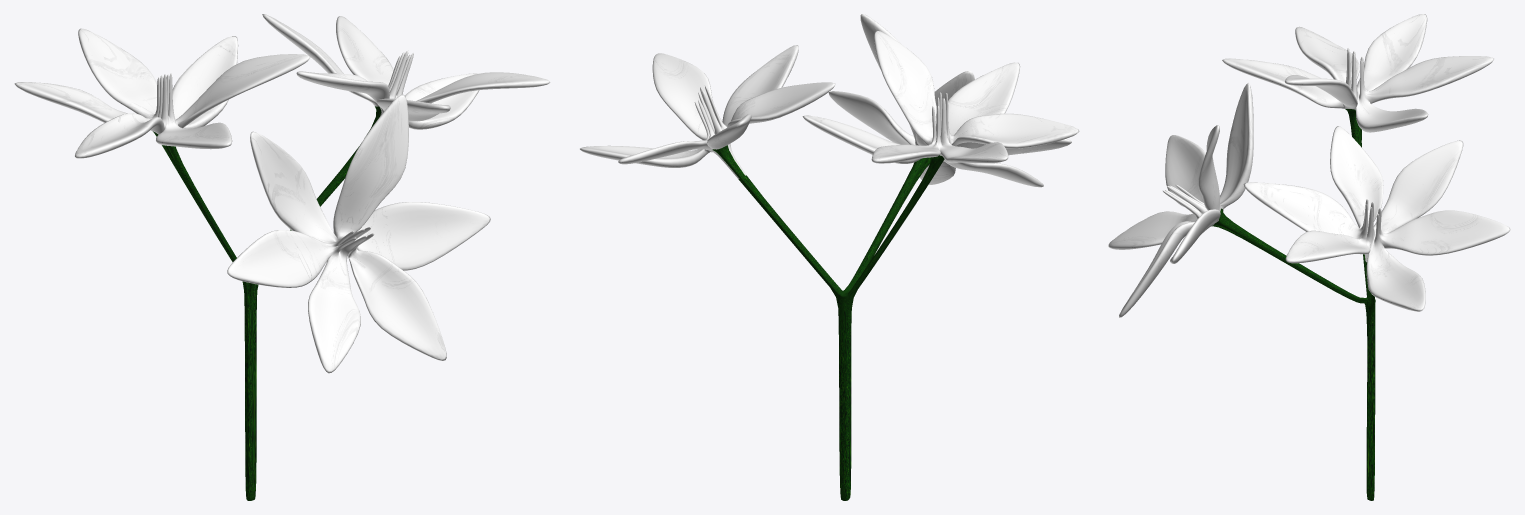
File: Whitetigerlily.fbx
3 renders of one model, left to right at view 1: azimuth 30°, elevation 25°; view 2: azimuth 150°, elevation 25°; view 3: azimuth 270°, elevation 25°, orthographic. The views are drawn at different scales.
Visible parts, largest first — view 1: whitetigerlily; view 2: whitetigerlily; view 3: whitetigerlily.
Boxes of the visible parts, <box> form: whitetigerlily: <box>14,14,550,500</box>; whitetigerlily: <box>580,14,1079,500</box>; whitetigerlily: <box>1108,14,1510,500</box>.
Size of the model in its own units: 0.5283 by 0.5037 by 0.4329.
